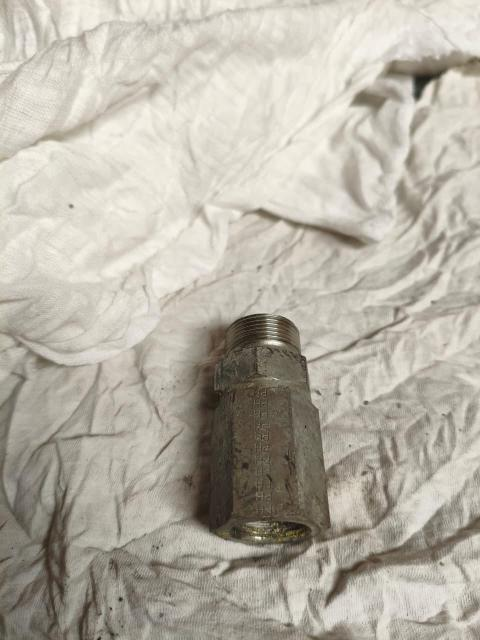Metal: (207, 308, 337, 543)
